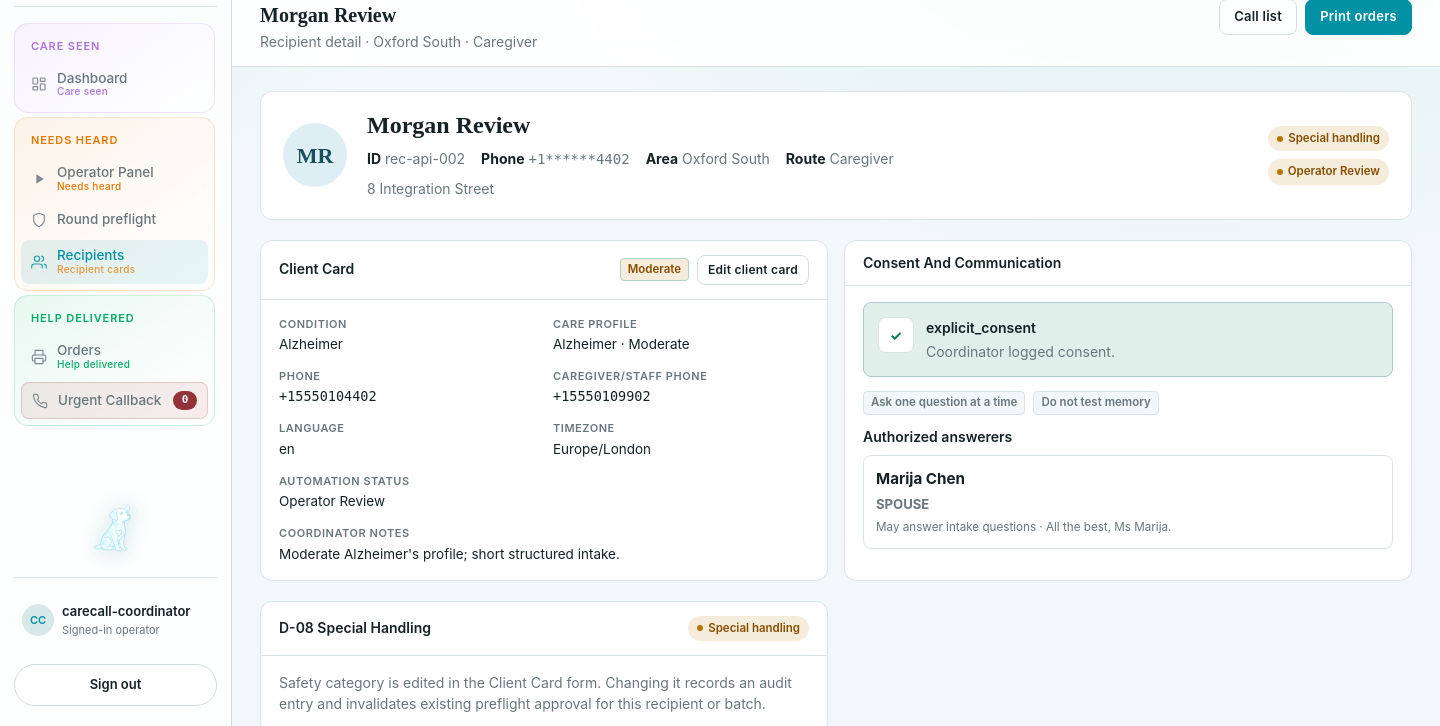
Test: RecipientDetailPage › keeps safety editing inside the client card and requires a reason there
This screenshot has width=1440, height=726.
Click the button "Edit client card" at (753, 270), box [697, 255, 809, 285]
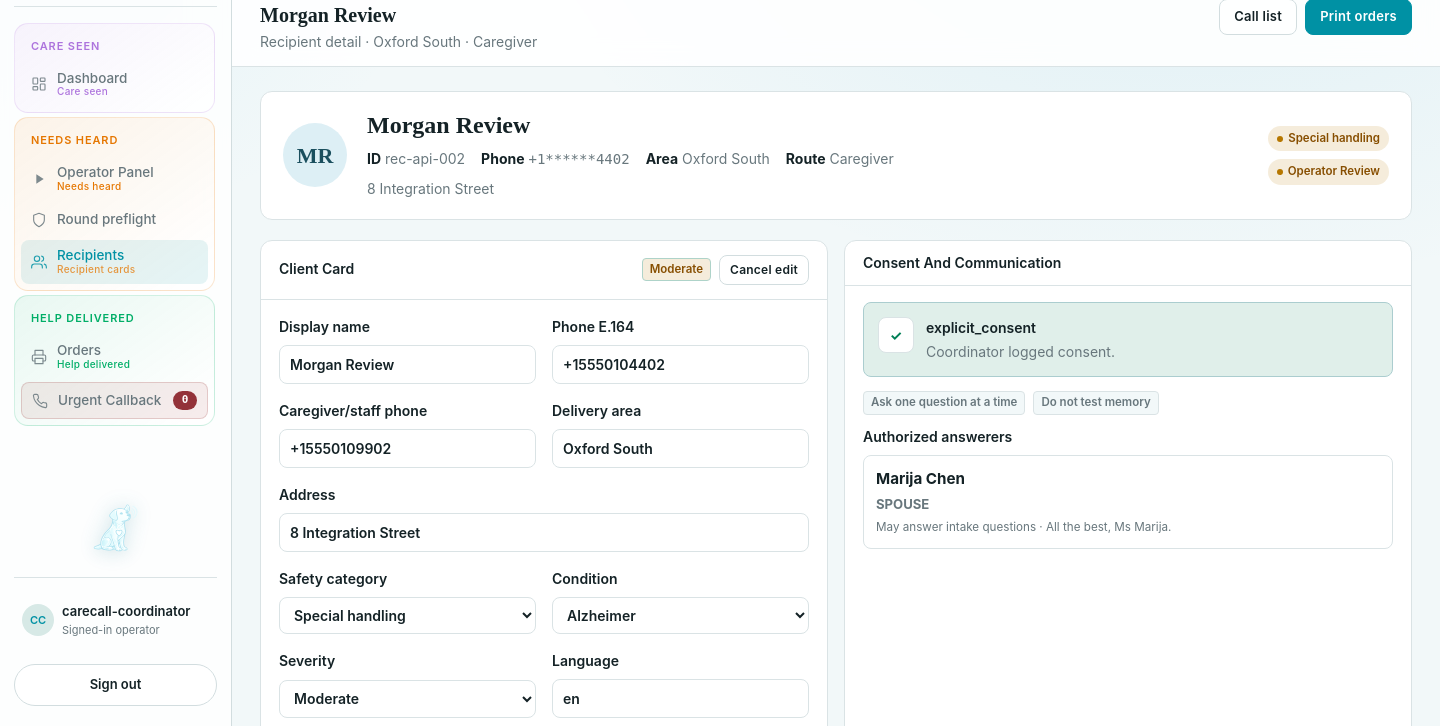
Expected: the number of dropdowns named "Client card safety category" is 1
Select "Non-critical" in the dropdown named "Client card safety category" at (408, 615), box [279, 597, 536, 634]
(page scrolled)
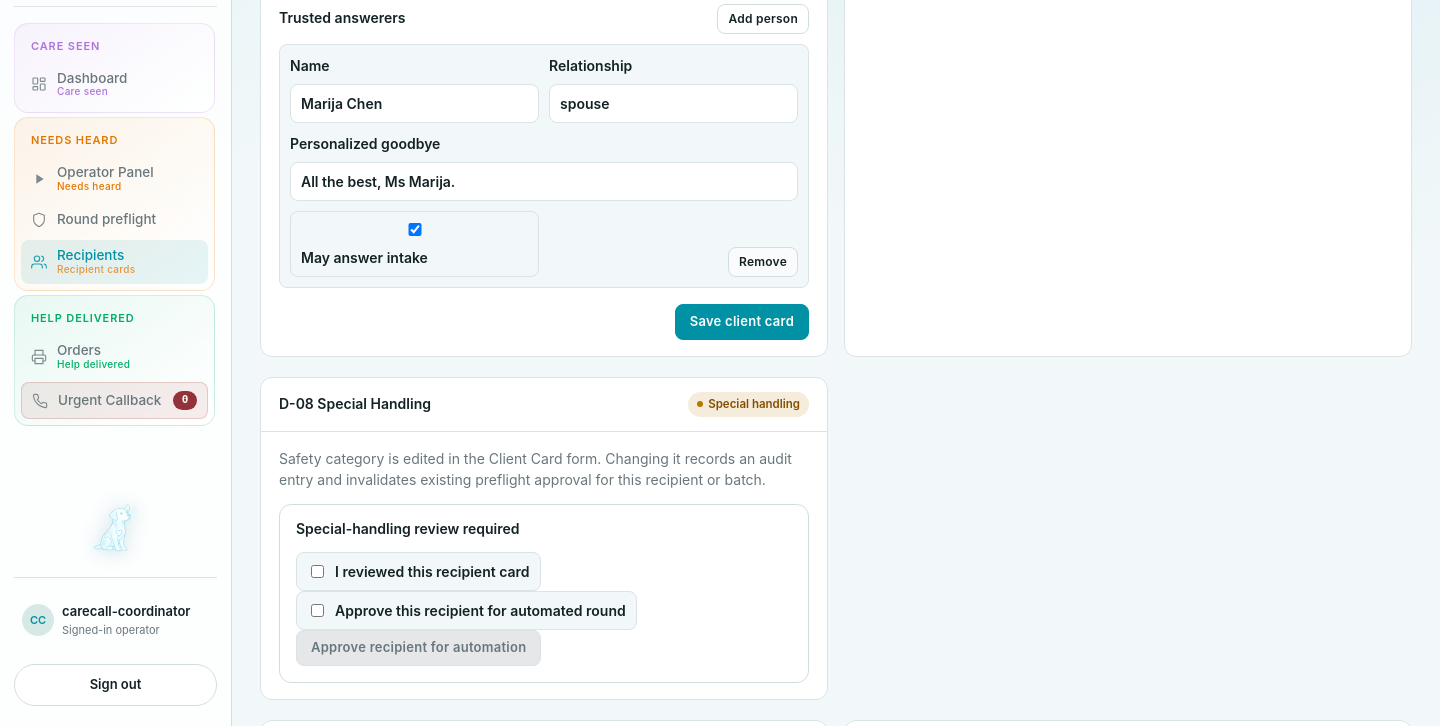
Click the button "Save client card" at (742, 322), box [675, 304, 809, 340]
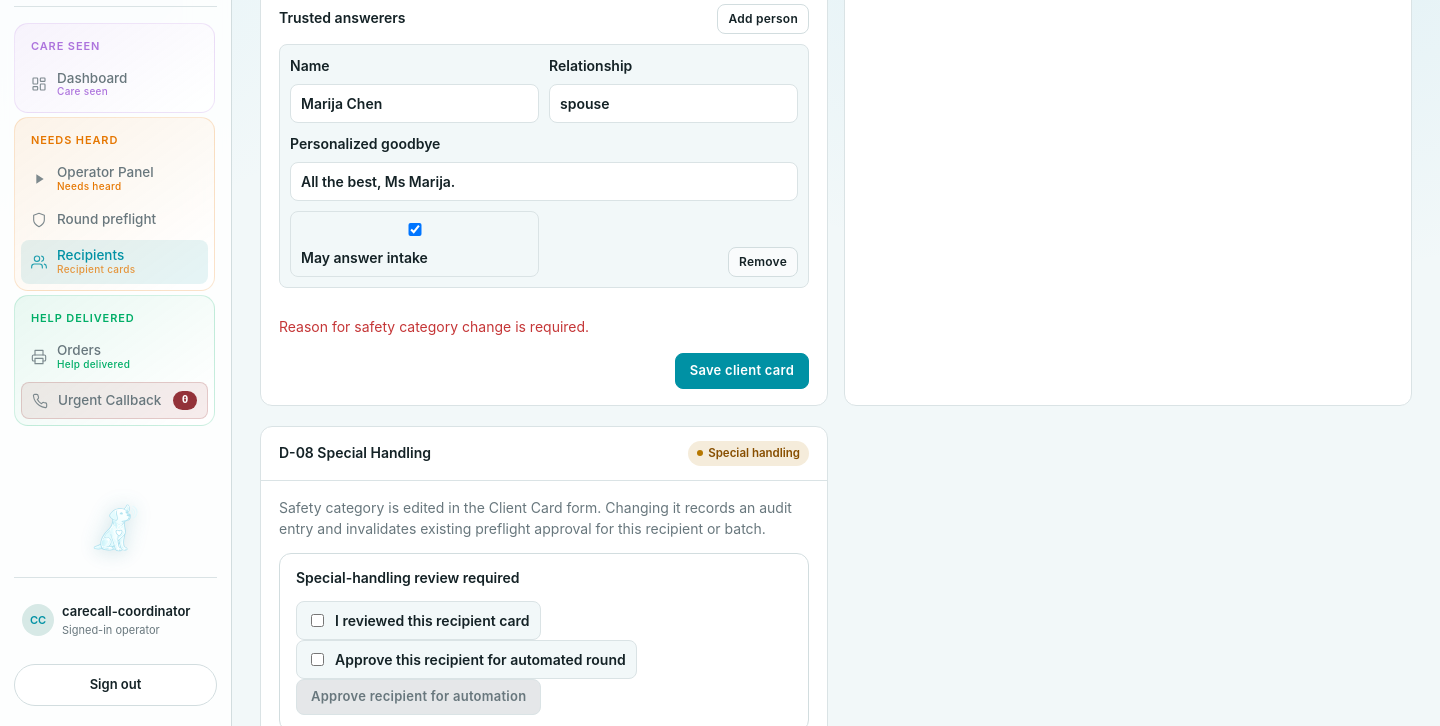
Expected: the text "Reason for safety category change is required." is shown, [279, 318, 589, 335]
